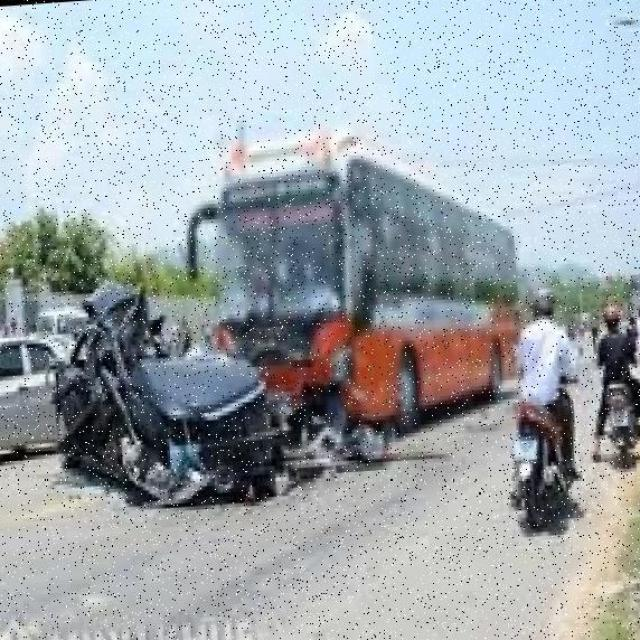accident: (0, 201, 387, 543)
